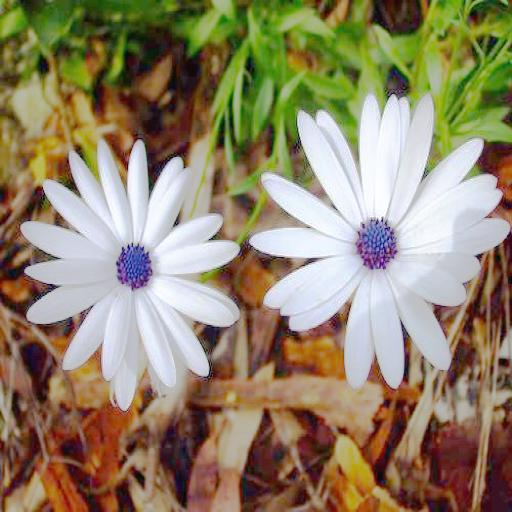daisy: (261, 100, 507, 394), (35, 153, 226, 400)
